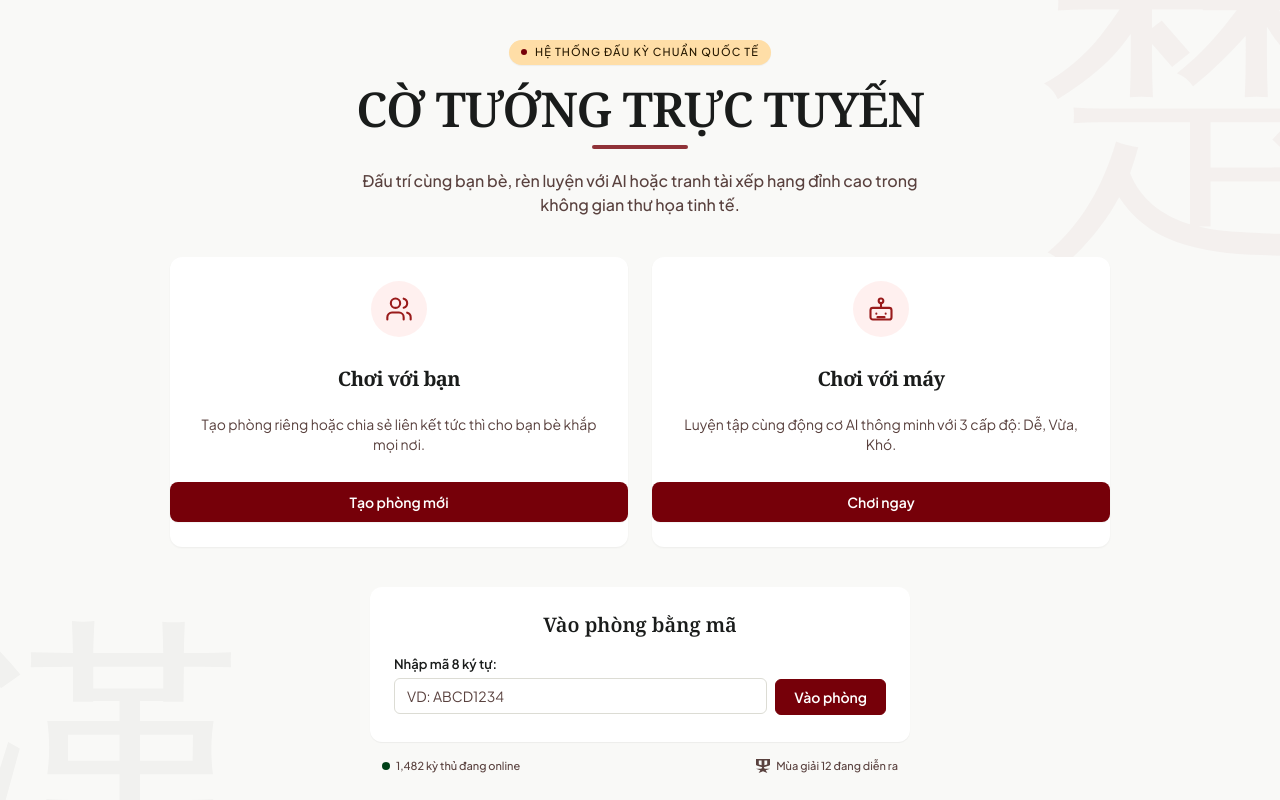
Test: HomePage › shows the join error for PHNGDAY9 next to the field
Type "PHNGDAY9" into the field named "Vào phòng bằng mã". click: point(581, 696)
box: [394,678,767,714]
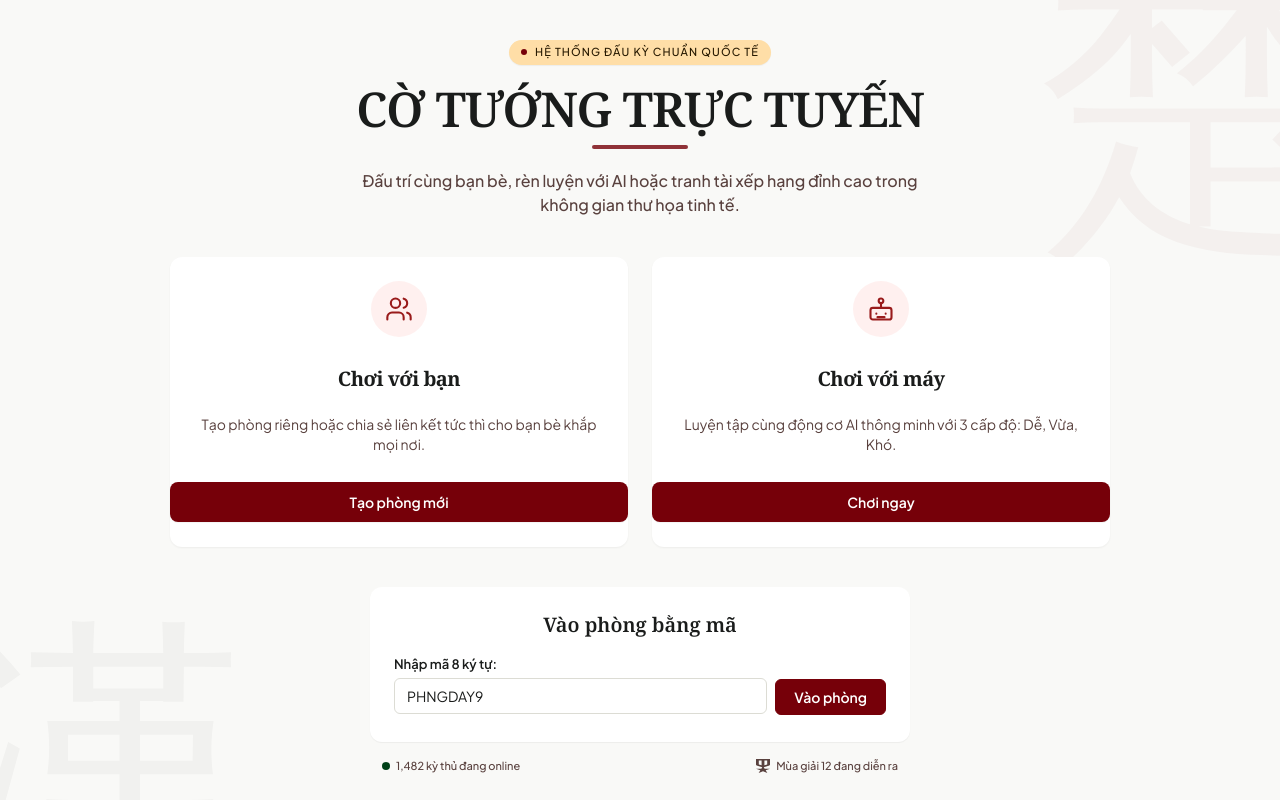
Click the button "Vào phòng". click: point(831, 696)
box: [775,678,886,714]
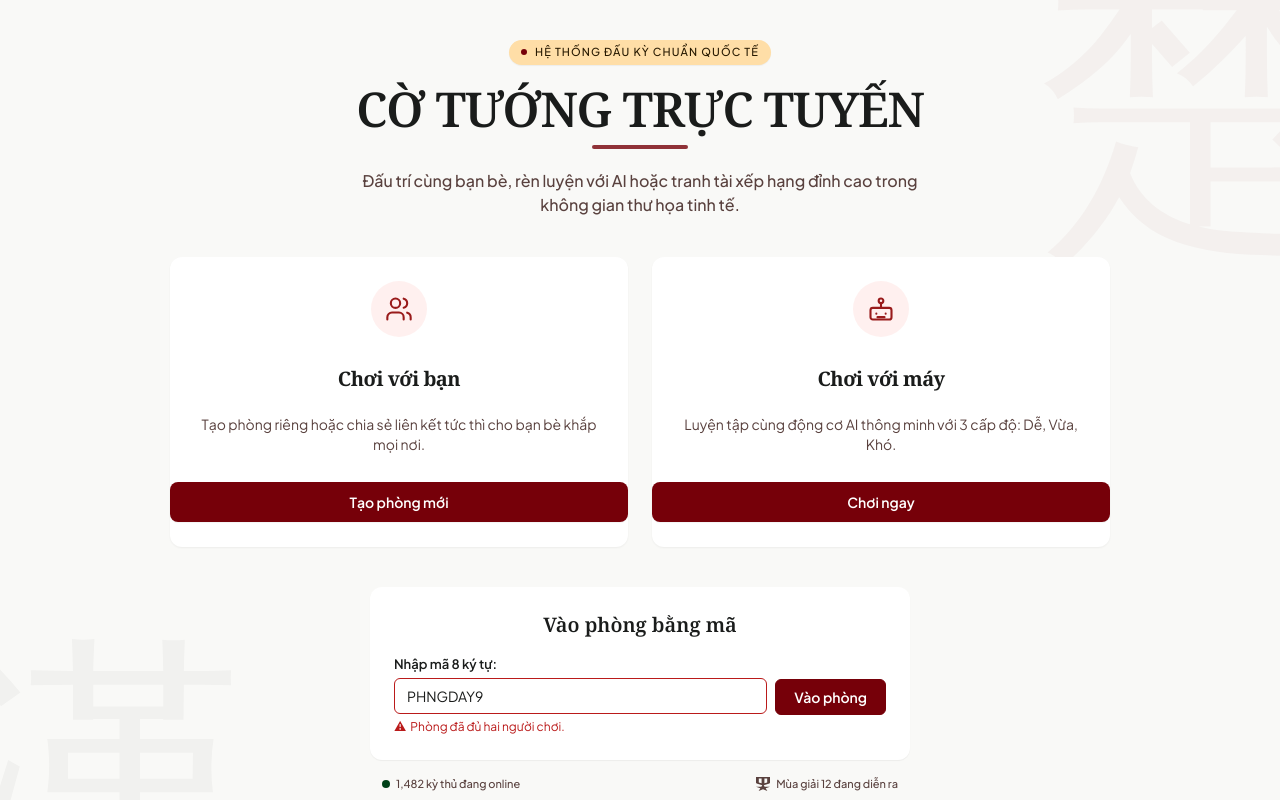
Expected: the text "Phòng đã đủ hai người chơi." is shown, [410,719,565,734]
